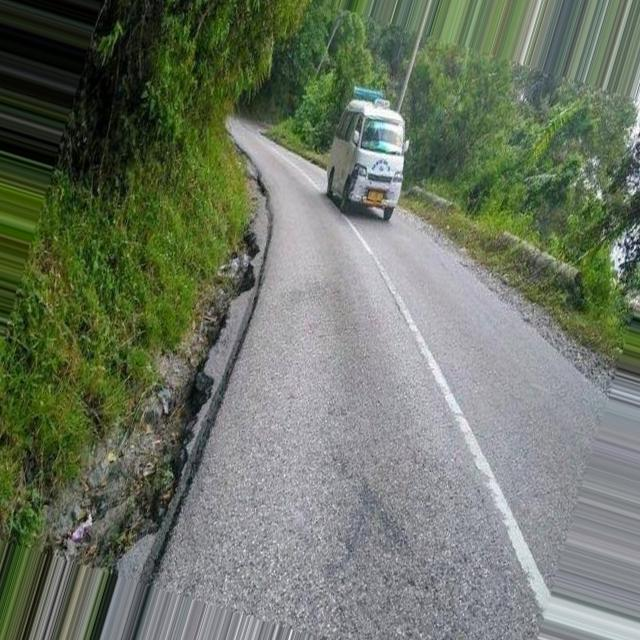Pinggir: (101, 170, 285, 612)
